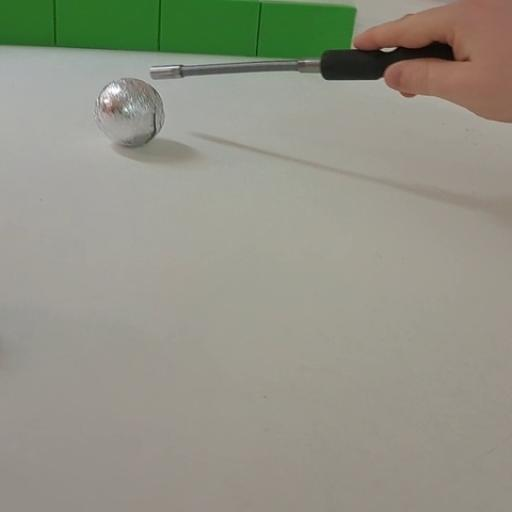alive: (92, 76, 166, 150)
